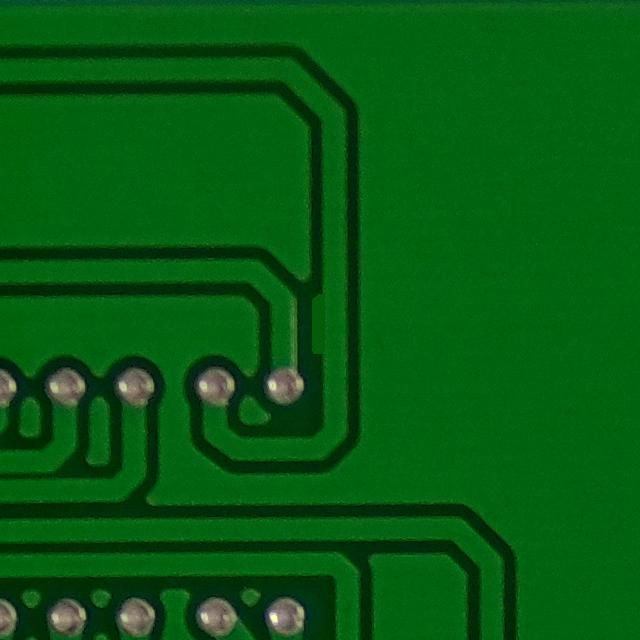spur: (295, 275, 346, 365)
